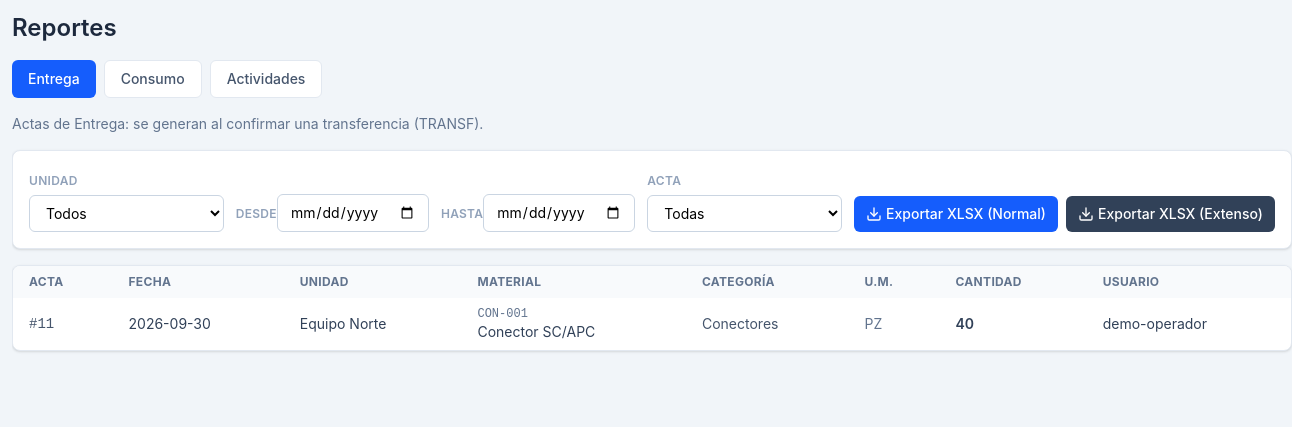
Test case: Reportes — exportación XLSX (descarga de blob) › 403: informa falta de permiso (equipo ajeno)
The width and height of the screenshot is (1292, 427).
Check: the text "Conector SC/APC" is shown, box top-left (478, 323), bottom-right (595, 340)
Step 1. Click the button "Exportar XLSX (Normal)" → (956, 214), box top-left (854, 196), bottom-right (1058, 232)
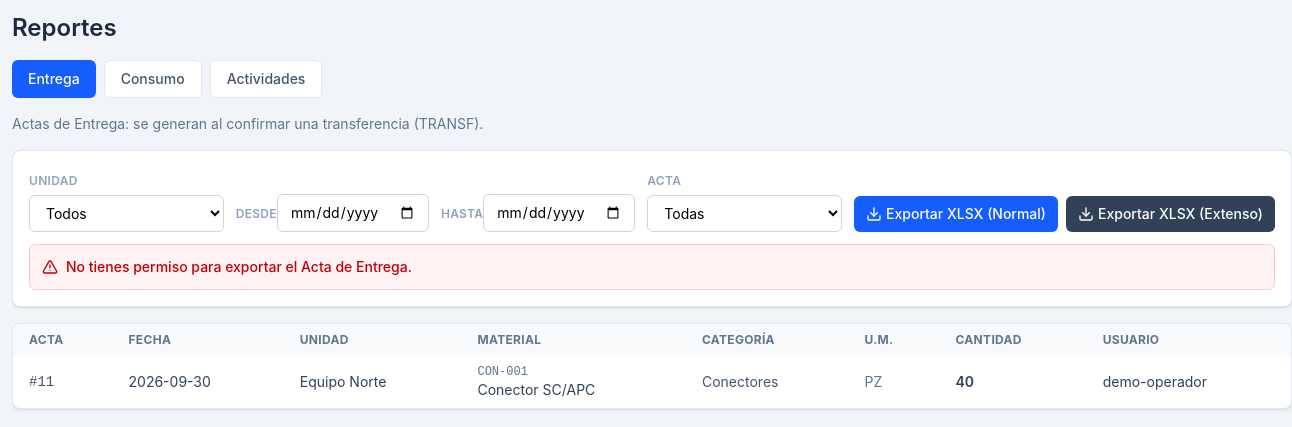
Check: the message shows "No tienes permiso para exportar", box top-left (66, 258), bottom-right (412, 275)
